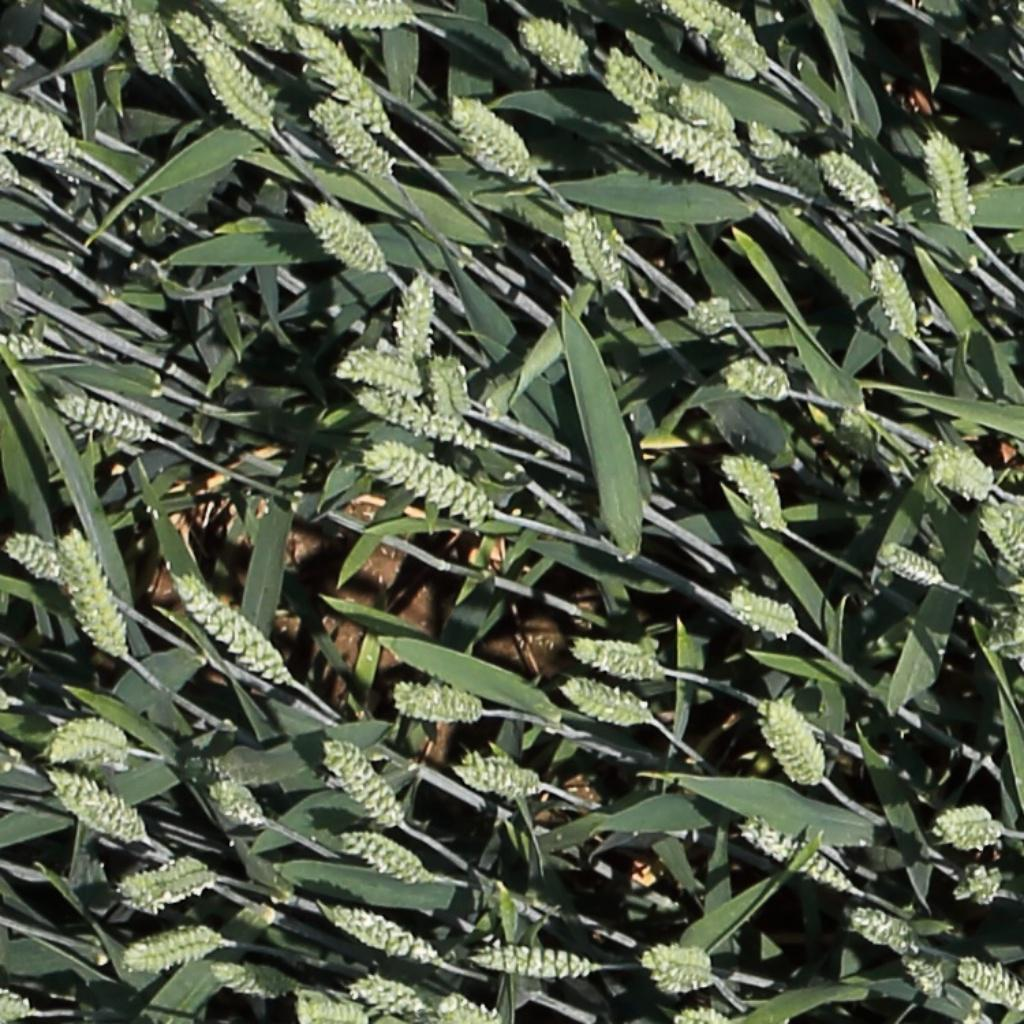0-0: (169, 573, 288, 685), (167, 9, 280, 123), (628, 106, 756, 189), (290, 20, 387, 129), (367, 445, 488, 518), (449, 94, 544, 186), (57, 528, 122, 662), (318, 898, 446, 966), (738, 819, 851, 895), (353, 387, 481, 450), (660, 0, 771, 69), (46, 772, 149, 844), (745, 120, 829, 205), (319, 740, 401, 827), (113, 854, 224, 916), (302, 199, 391, 275), (310, 97, 392, 178), (199, 46, 276, 131), (120, 918, 232, 975), (757, 699, 826, 789), (0, 89, 83, 161), (719, 450, 787, 535), (924, 129, 977, 235), (563, 204, 623, 294), (815, 147, 894, 215), (330, 340, 424, 395), (37, 715, 132, 769), (389, 677, 487, 728), (869, 249, 921, 344), (337, 832, 428, 886), (600, 47, 676, 111), (571, 633, 669, 682), (468, 942, 595, 979), (519, 16, 597, 75), (928, 437, 996, 502), (955, 949, 1024, 1013), (561, 680, 653, 728), (453, 752, 542, 801), (724, 585, 801, 640), (396, 267, 438, 365), (842, 905, 922, 955), (123, 8, 177, 82), (53, 397, 150, 438), (212, 0, 286, 53), (200, 775, 270, 831), (299, 0, 410, 35), (668, 78, 739, 132), (719, 353, 791, 403), (932, 803, 1007, 851), (705, 29, 767, 85), (346, 977, 427, 1018), (876, 539, 941, 588), (0, 531, 58, 584), (427, 349, 468, 423), (640, 938, 714, 978), (680, 292, 739, 340), (983, 499, 1024, 568), (207, 963, 289, 996), (949, 861, 1007, 906), (899, 957, 952, 1003), (245, 0, 299, 45), (985, 610, 1024, 666), (436, 992, 504, 1024), (0, 129, 51, 171), (651, 963, 717, 995), (0, 332, 51, 363), (0, 983, 38, 1024), (300, 1003, 364, 1024), (670, 1003, 730, 1024), (78, 0, 141, 16), (0, 154, 22, 190)
